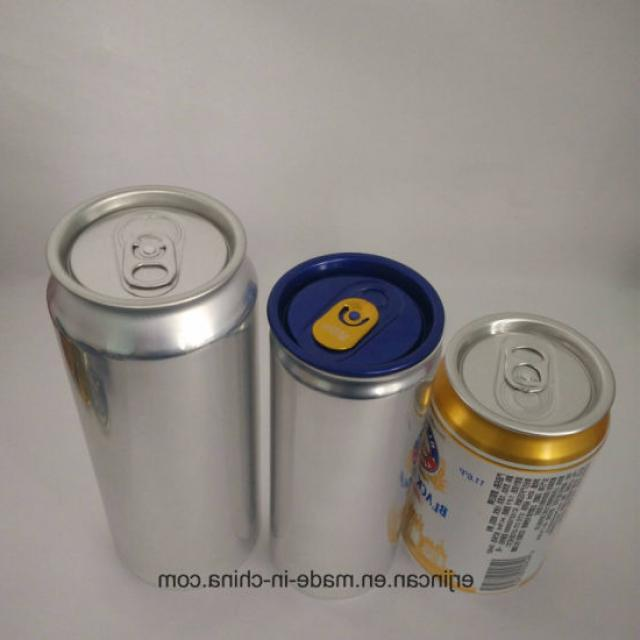can: (46, 163, 257, 600), (246, 234, 464, 621), (404, 282, 616, 613)
